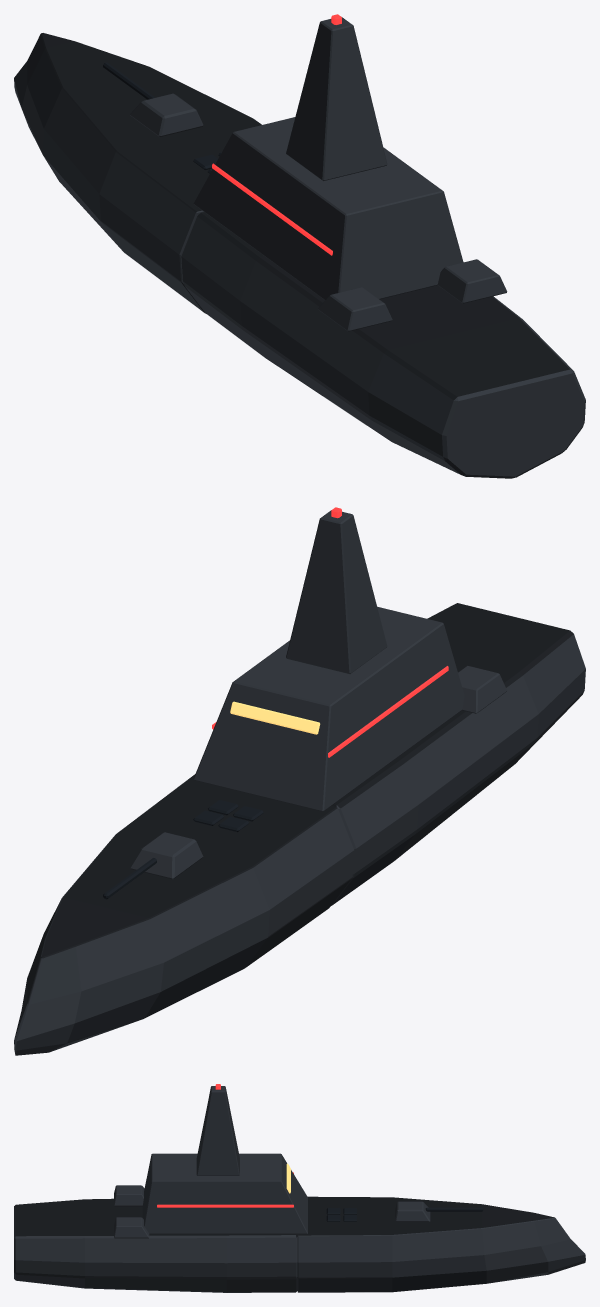
The model's file is frigate.glb.
3 views of the same model, one above another, from view 1: azimuth 30°, elevation 25°; view 2: azimuth 150°, elevation 25°; view 3: azimuth 270°, elevation 25° (orthographic). The views are drawn at different scales.
Parts seen in each view (by area): view 1: SternHull, SternTop, BowHull, BowTop; view 2: BowHull, SternTop, SternHull, BowTop; view 3: BowHull, SternHull, SternTop, BowTop.
Boxes of the visible parts, box(x1,y1,x2,y2) form: SternHull: box(181, 212, 585, 478); SternTop: box(193, 14, 507, 331); BowHull: box(14, 33, 261, 313); BowTop: box(103, 62, 221, 173); BowHull: box(14, 774, 354, 1055); SternTop: box(193, 507, 507, 811); SternHull: box(331, 603, 585, 905); BowTop: box(103, 800, 263, 899); BowHull: box(297, 1196, 585, 1292); SternHull: box(14, 1198, 297, 1292); SternTop: box(114, 1084, 307, 1238); BowTop: box(326, 1201, 483, 1221).
Size of the model in its own units: 3.26 by 6.26 by 15.87.
